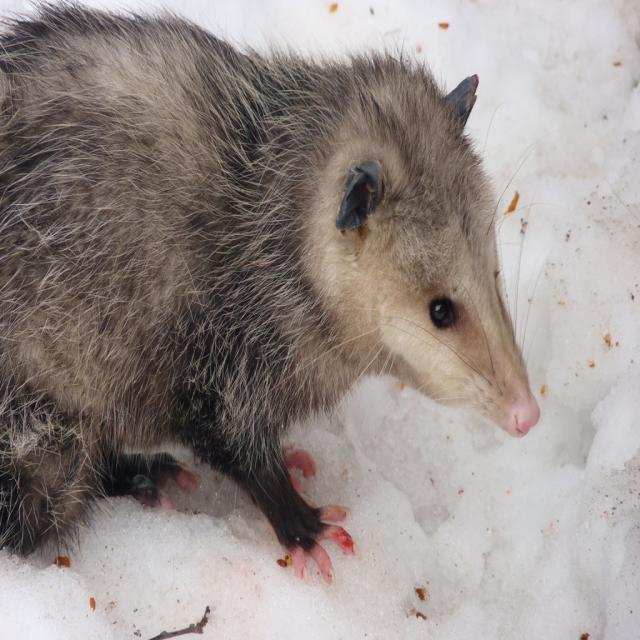rat: (0, 6, 545, 588)
